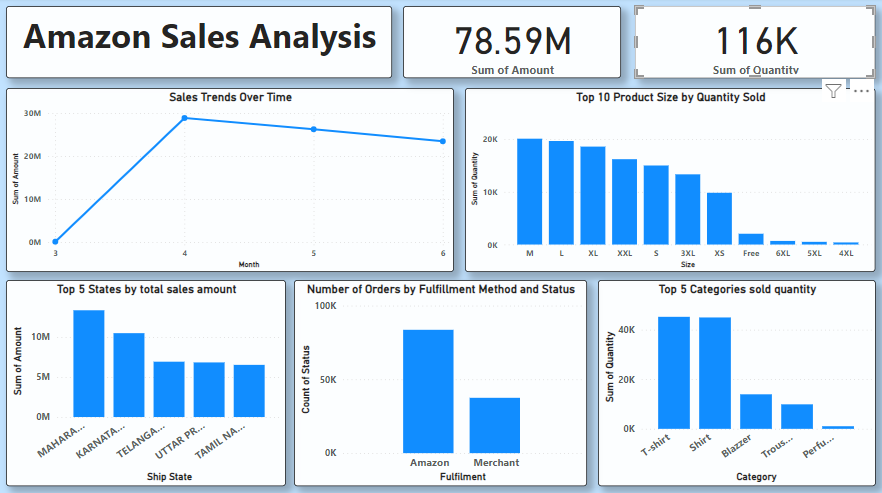

The dashboard page shown, as its layout file describes it:
{"tool":"powerbi","page":{"name":"Page 1","canvas":[1280,720],"ordinal":0},"visuals":[{"type":"textbox","box":[13.4,11.8,556,104.1],"z":0},{"type":"lineChart","title":"Sales Trends Over Time","fields":{"Y":["Sum(Amazon Sale Report.Amount)"],"Category":["Amazon Sale Report.Month"]},"box":[13.4,129.3,645,265.4],"z":1000},{"type":"columnChart","title":"Top 10 Product Size by Quantity Sold","fields":{"Category":["Amazon Sale Report.Size"],"Y":["Sum(Amazon Sale Report.Quantity)"]},"box":[673.6,129.3,591.3,265.4],"z":2000},{"type":"columnChart","title":"Top 5 Categories sold quantity","fields":{"Category":["Amazon Sale Report.Category"],"Y":["Sum(Amazon Sale Report.Quantity)"]},"box":[865.1,406.5,399.8,297.3],"z":3000},{"type":"columnChart","title":"Top 5 States by total sales amount","fields":{"Category":["Amazon Sale Report.Ship State"],"Y":["Sum(Amazon Sale Report.Amount)"]},"box":[13.4,406.5,403.1,297.3],"z":4000},{"type":"columnChart","title":"Number of Orders by Fulfillment Method and Status","fields":{"Category":["Amazon Sale Report.Fulfilment"],"Y":["CountNonNull(Amazon Sale Report.Status)"]},"box":[428.3,406.5,421.6,297.3],"z":4001},{"type":"card","fields":{"Values":["Sum(Amazon Sale Report.Amount)"]},"box":[584.6,11.8,314.1,104.1],"z":4002},{"type":"card","fields":{"Values":["Sum(Amazon Sale Report.Quantity)"]},"box":[918.8,11.8,346,104.1],"z":4003}]}

Visuals, with their boxes in screenshot pixels (x1, y1, x2, y2), scaled from the page's 1280x720 canvas onto the 882x493 screenshot:
textbox: {"left": 9, "top": 8, "right": 392, "bottom": 79}
"Sales Trends Over Time" lineChart: {"left": 9, "top": 89, "right": 454, "bottom": 270}
"Top 10 Product Size by Quantity Sold" columnChart: {"left": 464, "top": 89, "right": 872, "bottom": 270}
"Top 5 Categories sold quantity" columnChart: {"left": 596, "top": 278, "right": 872, "bottom": 482}
"Top 5 States by total sales amount" columnChart: {"left": 9, "top": 278, "right": 287, "bottom": 482}
"Number of Orders by Fulfillment Method and Status" columnChart: {"left": 295, "top": 278, "right": 586, "bottom": 482}
card - Sum(Amazon Sale Report.Amount): {"left": 403, "top": 8, "right": 619, "bottom": 79}
card - Sum(Amazon Sale Report.Quantity): {"left": 633, "top": 8, "right": 872, "bottom": 79}
